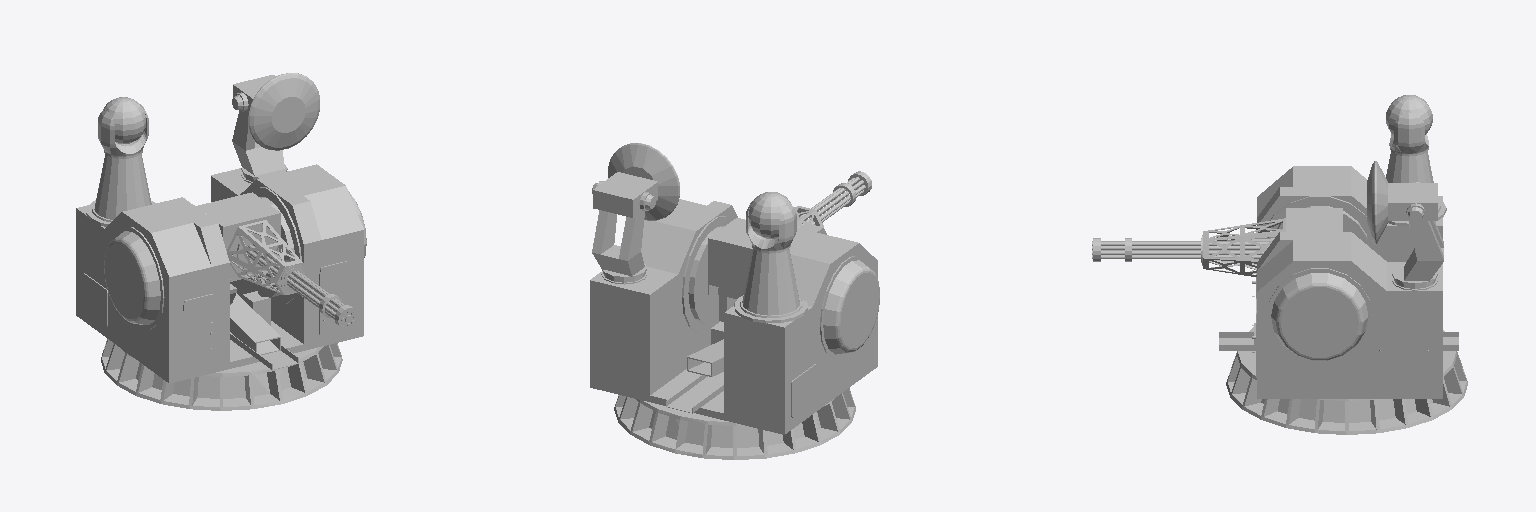
Rendered from dartling_tower.obj.
3 views of the same model, side by side, from view 1: azimuth 30°, elevation 25°; view 2: azimuth 150°, elevation 25°; view 3: azimuth 270°, elevation 25° (orthographic).
Visible parts, largest first — view 1: Rotate_Z_Bolt.001, Stand_1130_Cylinder.013, Rotate_X_Cube.004, Antena_Cube.014, radar_Cylinder.014; view 2: Rotate_Z_Bolt.001, Stand_1130_Cylinder.013, Antena_Cube.014, radar_Cylinder.014, Rotate_X_Cube.004; view 3: Rotate_Z_Bolt.001, Stand_1130_Cylinder.013, Rotate_X_Cube.004, Antena_Cube.014, radar_Cylinder.014.
Part boxes in pixels (x1,y1,x2,y2): Rotate_Z_Bolt.001: (76,164,366,383); Stand_1130_Cylinder.013: (101,339,342,410); Rotate_X_Cube.004: (197,192,358,329); Antena_Cube.014: (232,73,319,325); radar_Cylinder.014: (86,97,155,226); Rotate_Z_Bolt.001: (590,199,879,434); Stand_1130_Cylinder.013: (614,388,855,459); Antena_Cube.014: (592,143,723,344); radar_Cylinder.014: (734,192,807,323); Rotate_X_Cube.004: (688,171,871,324); Rotate_Z_Bolt.001: (1219,166,1458,398); Stand_1130_Cylinder.013: (1226,327,1467,434); Rotate_X_Cube.004: (1092,206,1368,276); Antena_Cube.014: (1367,161,1443,290); radar_Cylinder.014: (1386,95,1446,226).
Bounding box in the file's own units: 2.39 × 2.62 × 3.49.